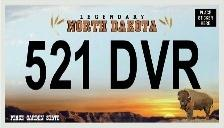1: (73, 38, 96, 90)
2: (47, 39, 73, 90)
5: (24, 39, 50, 91)
D: (108, 40, 138, 92)
R: (171, 40, 207, 91)
V: (140, 40, 172, 91)
